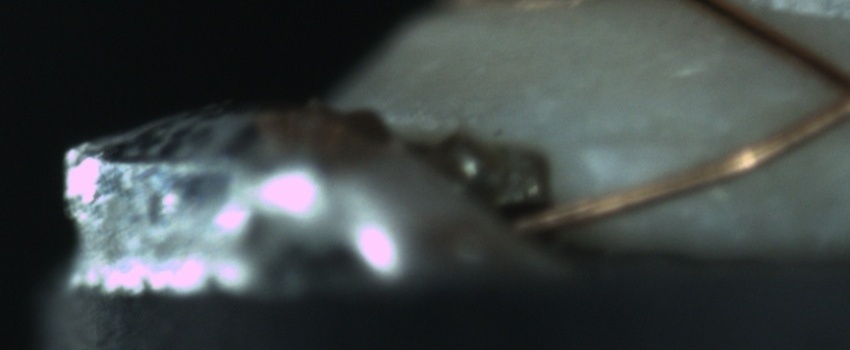CL: (807, 52, 850, 129)
DL: (580, 109, 717, 173)
